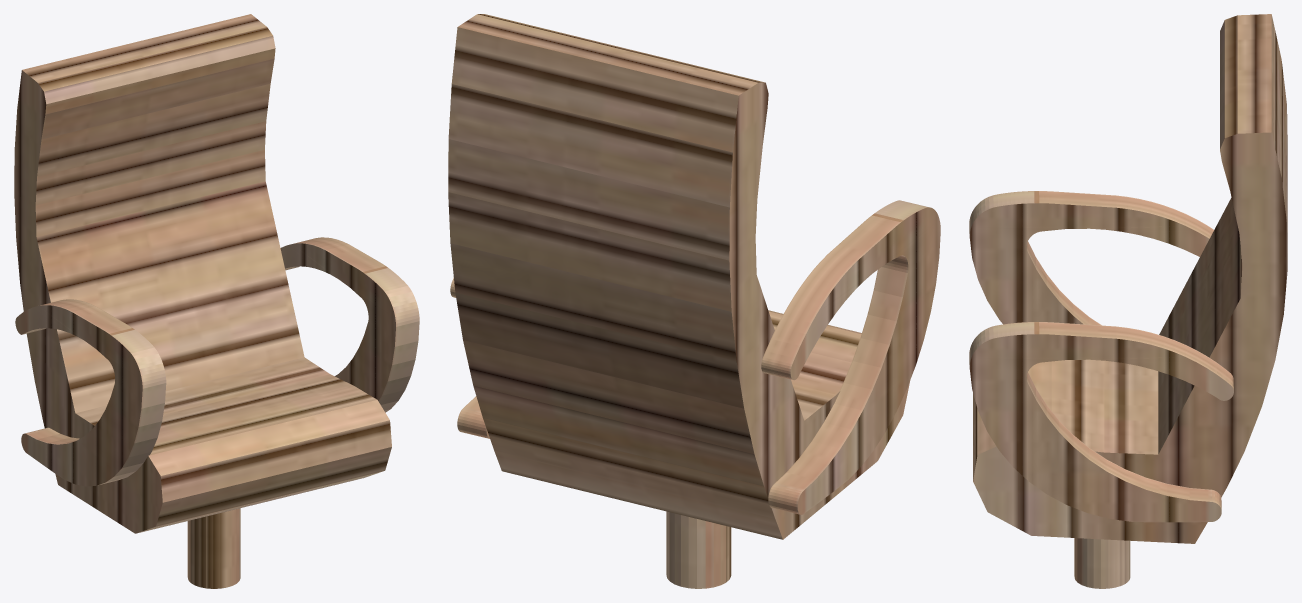
The model's file is Chair04.glb.
3 views of the same model, side by side, from view 1: azimuth 30°, elevation 25°; view 2: azimuth 150°, elevation 25°; view 3: azimuth 270°, elevation 25° (orthographic). The views are drawn at different scales.
Parts seen in each view (by area): view 1: empty_111, empty_110, empty_113, empty_112; view 2: empty_111, empty_110, empty_112, empty_113; view 3: empty_111, empty_113, empty_110, empty_112.
Part boxes in pixels (x1=…): empty_111: x1=14, y1=14, x2=391, y2=533; empty_110: x1=15, y1=299, x2=166, y2=486; empty_113: x1=280, y1=237, x2=419, y2=412; empty_112: x1=187, y1=508, x2=240, y2=588; empty_111: x1=448, y1=14, x2=909, y2=539; empty_110: x1=761, y1=200, x2=940, y2=514; empty_112: x1=666, y1=511, x2=731, y2=588; empty_113: x1=450, y1=277, x2=489, y2=438; empty_111: x1=973, y1=14, x2=1287, y2=543; empty_113: x1=969, y1=322, x2=1233, y2=522; empty_110: x1=969, y1=191, x2=1213, y2=325; empty_112: x1=1074, y1=538, x2=1130, y2=588.
Size of the model in its own units: 0.6098 by 0.9938 by 0.568.
1 material, 1 textured.
